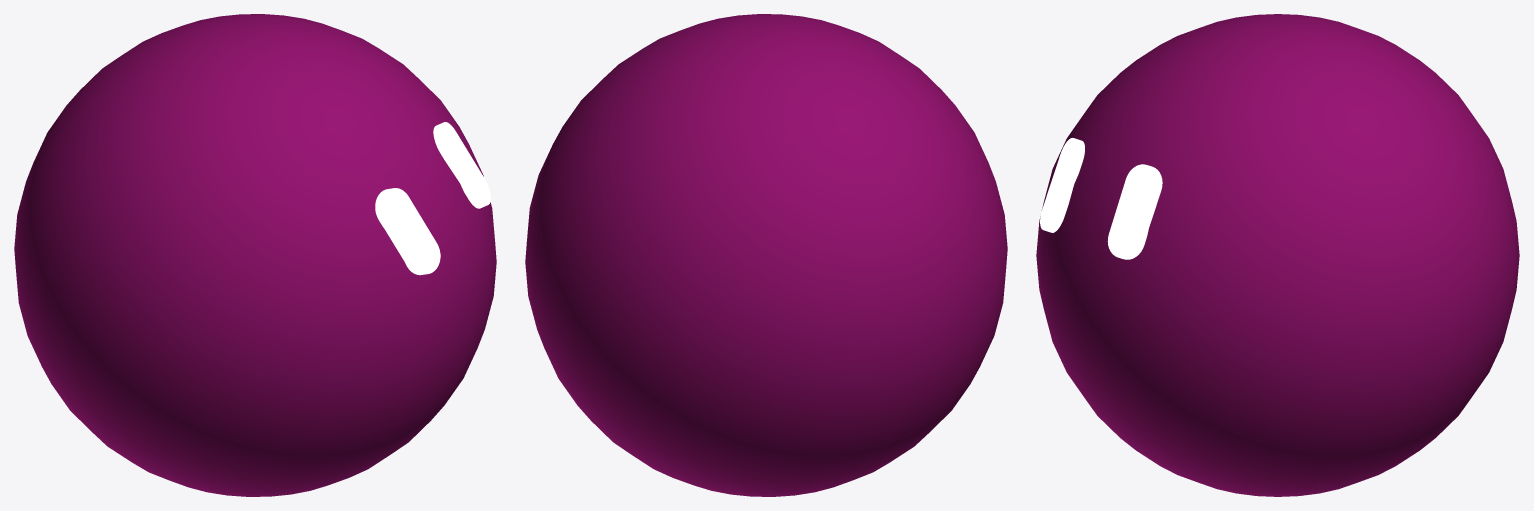
The model's file is aromin-agent.glb.
3 views of the same model, side by side, from view 1: azimuth 30°, elevation 25°; view 2: azimuth 150°, elevation 25°; view 3: azimuth 270°, elevation 25° (orthographic).
Parts seen in each view (by area): view 1: Head sphere, Left eye (viewer), Right eye (viewer); view 2: Head sphere; view 3: Head sphere, Right eye (viewer), Left eye (viewer).
Boxes of the visible parts, x1,y1,x2,y2 form: Head sphere: (14,14,496,496); Left eye (viewer): (375,188,440,275); Right eye (viewer): (433,122,490,208); Head sphere: (525,14,1007,496); Head sphere: (1036,14,1519,496); Right eye (viewer): (1107,164,1162,259); Left eye (viewer): (1040,138,1084,232).
Size of the model in its own units: 1 by 1 by 1.
